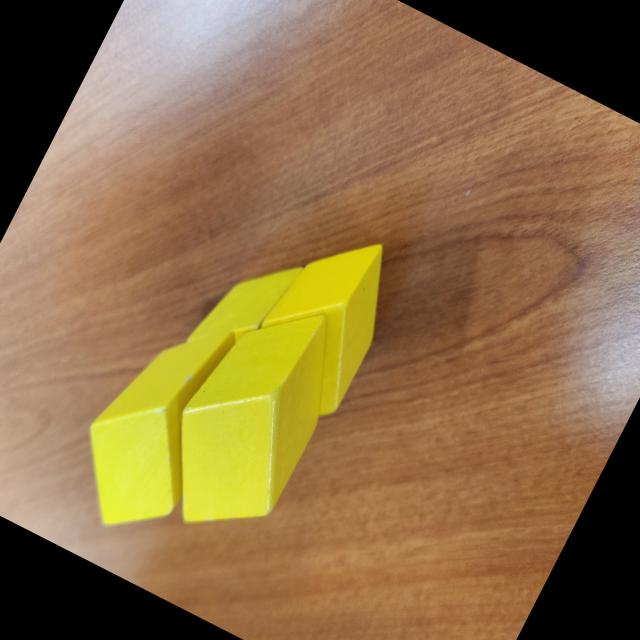yellow: (137, 276, 366, 558), (52, 292, 260, 554), (234, 212, 416, 424), (184, 236, 304, 376)
